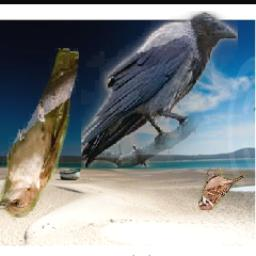Crow: (80, 12, 237, 169)
Cuckoo: (0, 49, 78, 219)
Sparrow: (197, 167, 245, 210)
